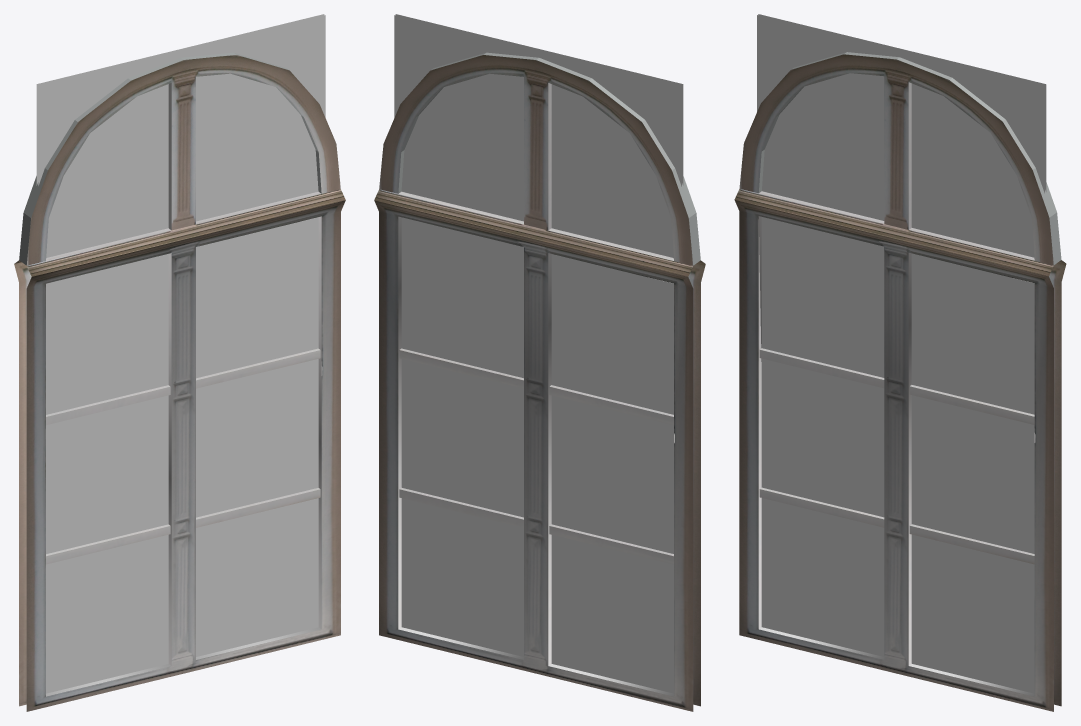
File: WindowRounded1A.fbx
3 views of the same model, side by side, from view 1: azimuth 30°, elevation 25°; view 2: azimuth 150°, elevation 25°; view 3: azimuth 330°, elevation 25° (orthographic).
Visible parts, largest first — view 1: WindowRounded1A; view 2: WindowRounded1A; view 3: WindowRounded1A.
Boxes of the visible parts, box(x1,y1,x2,y2) form: WindowRounded1A: box(14, 14, 345, 711); WindowRounded1A: box(374, 14, 705, 711); WindowRounded1A: box(734, 14, 1066, 711).
Bounding box in the file's own units: 140 × 264 × 13.57.
